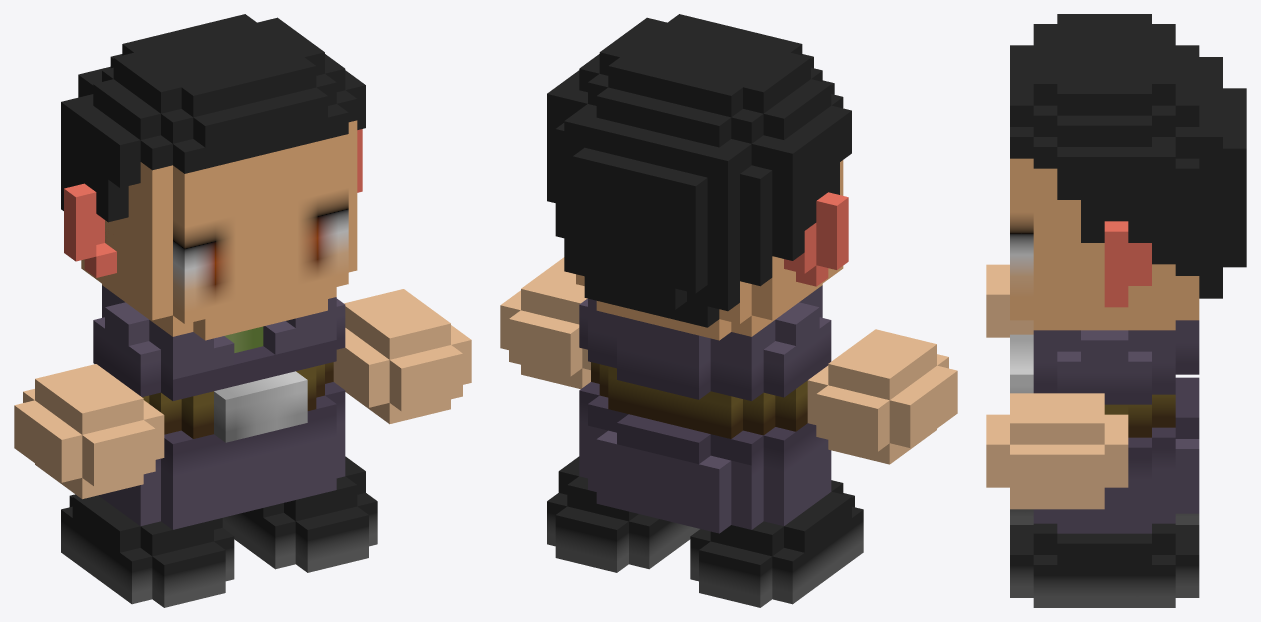
The model's file is CubeWorldCharacter.fbx.
The picture shows the model from 3 angles, left to right: view 1: azimuth 30°, elevation 25°; view 2: azimuth 150°, elevation 25°; view 3: azimuth 270°, elevation 25°; orthographic projection.
Parts seen in each view (by area): view 1: Chest, Head, Hair, R_Hand, L_Hand, R_Foot, L_Foot, R_Ear; view 2: Hair, Chest, R_Hand, R_Foot, L_Foot, L_Hand, Head, R_Ear; view 3: Hair, Chest, Head, L_Hand, L_Foot, L_Ear, R_Hand, R_Foot.
Part boxes in pixels (<box>): Chest: <box>93,285,345,529</box>; Head: <box>81,120,357,340</box>; Hair: <box>61,14,365,222</box>; R_Hand: <box>14,364,164,499</box>; L_Hand: <box>333,289,471,424</box>; R_Foot: <box>61,494,234,607</box>; L_Foot: <box>222,456,377,572</box>; R_Ear: <box>64,183,116,277</box>; Hair: <box>547,14,851,327</box>; Chest: <box>579,285,831,533</box>; R_Hand: <box>807,329,957,464</box>; R_Foot: <box>690,480,863,607</box>; L_Foot: <box>547,456,699,572</box>; L_Hand: <box>500,257,590,389</box>; Head: <box>576,160,843,340</box>; R_Ear: <box>784,192,848,286</box>; Hair: <box>1010,14,1246,298</box>; Chest: <box>1010,320,1199,533</box>; Head: <box>1010,158,1199,330</box>; L_Hand: <box>986,393,1128,509</box>; L_Foot: <box>1010,523,1199,607</box>; L_Ear: <box>1104,221,1151,307</box>; R_Hand: <box>986,264,1033,337</box>; R_Foot: <box>1010,509,1199,524</box>.
Size of the model in its own units: 20 by 23 by 11.
Materials: 1 (1 with a texture image).
